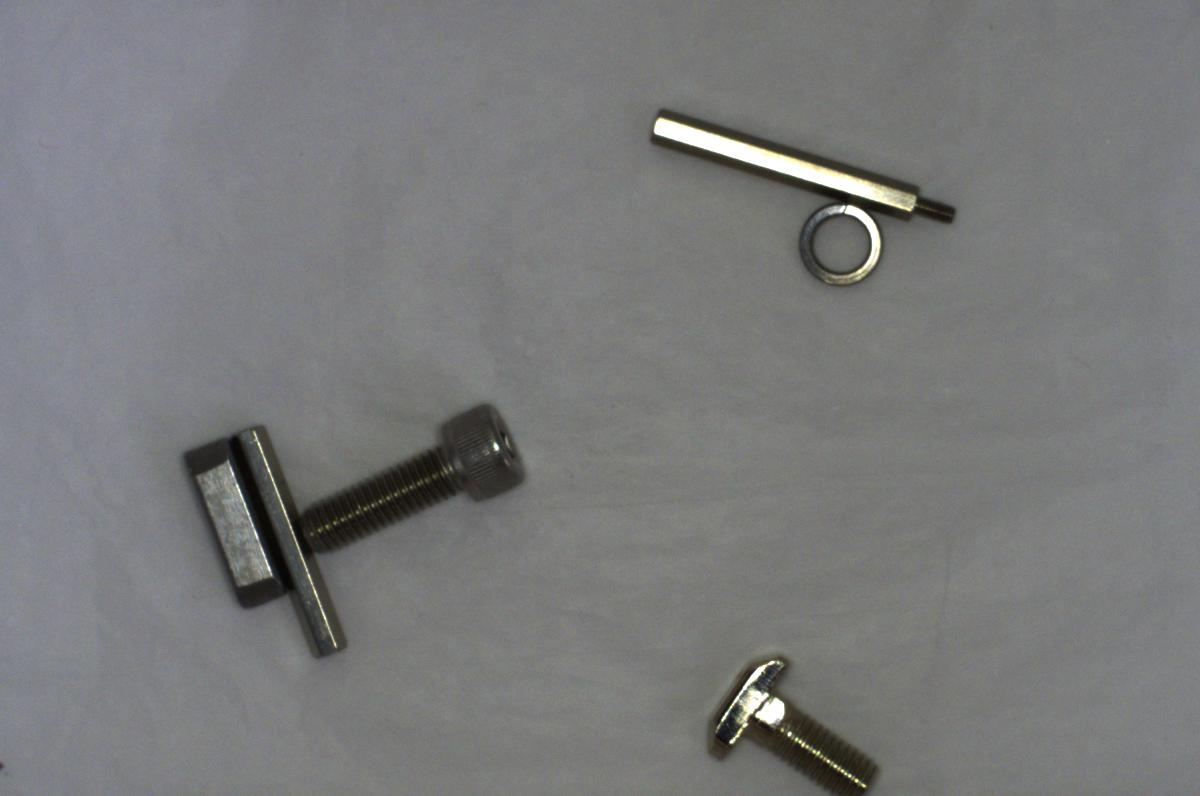Double hexagonal column: (233, 419, 351, 668)
Hexagon screw: (291, 387, 535, 558)
Hexagonal steel column: (634, 103, 960, 229)
Keybar: (171, 433, 287, 613)
Spring washer: (786, 201, 888, 285)
T-shaped screw: (694, 648, 881, 795)
